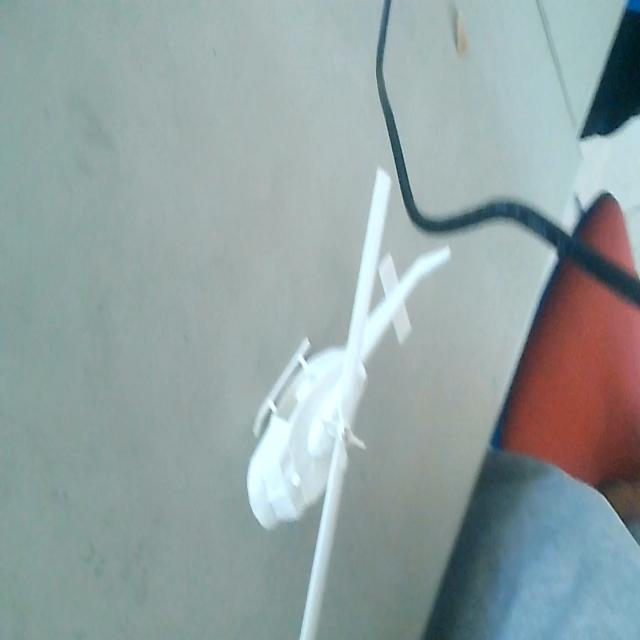Helicopter: (241, 157, 451, 640)
